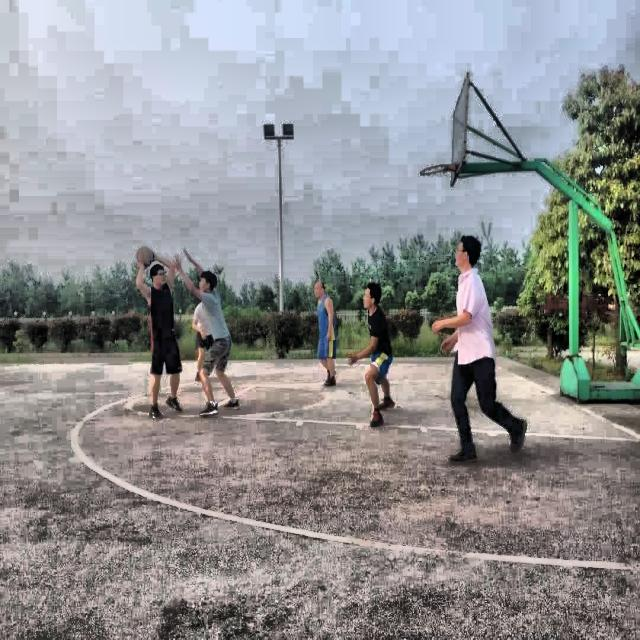board: (136, 246, 154, 266)
